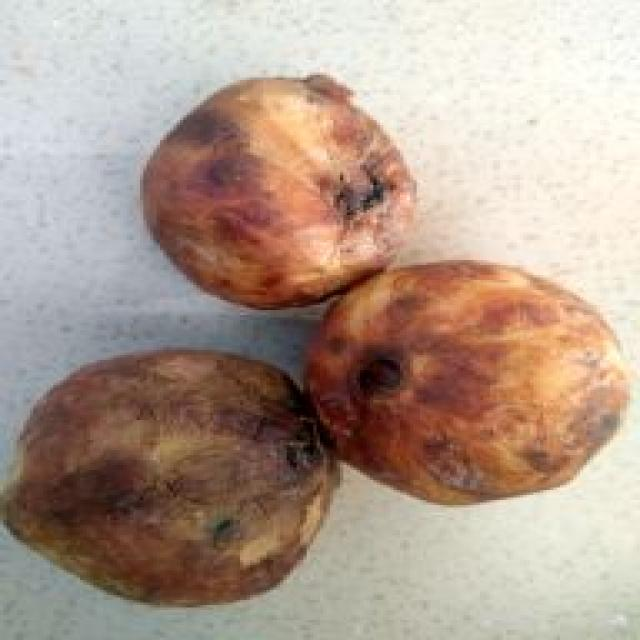Bad_Guava: (3, 350, 338, 604), (307, 261, 628, 503)
